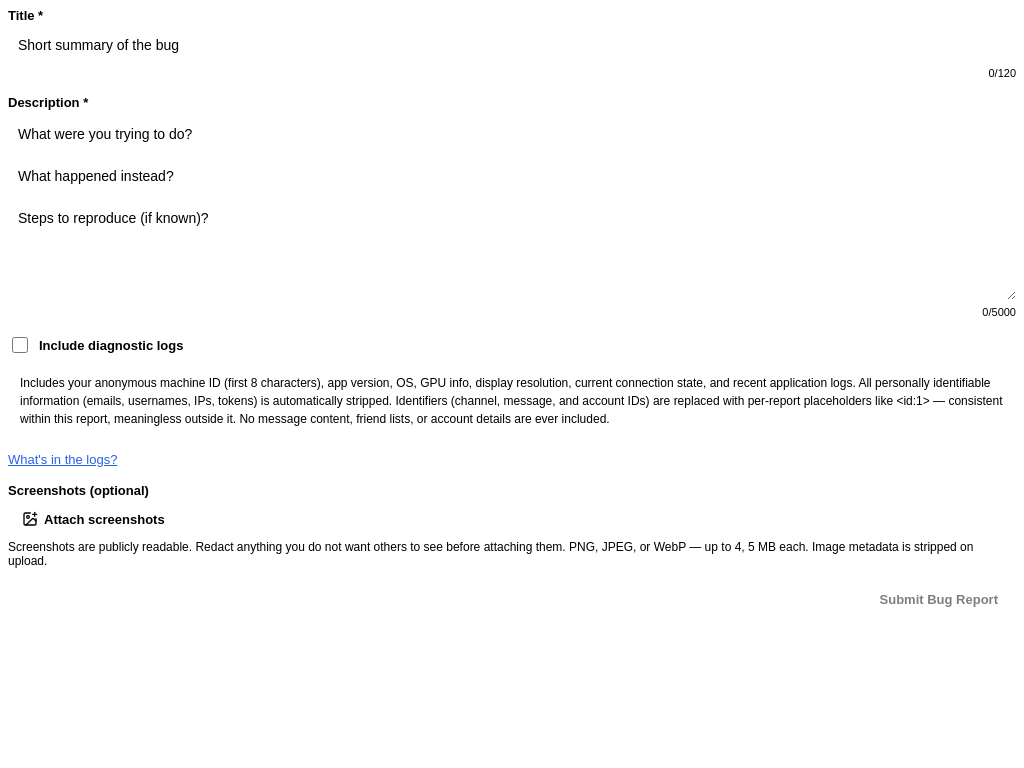
Test: BugReportPanel › logs preview (#2078) › opens the preview modal showing the exact buildDiagnostics logs
Click the button "What's in the logs?" at (63, 460), box [8, 452, 117, 467]
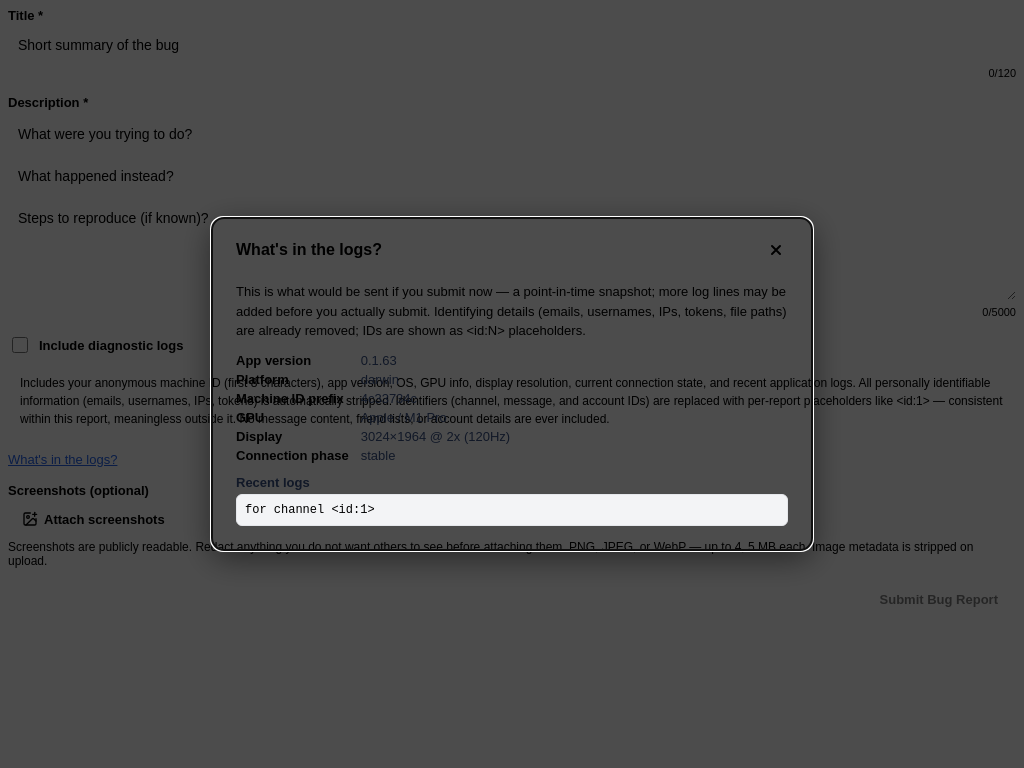
Now the text "for channel <id:1>" is shown, box [236, 494, 788, 526]
